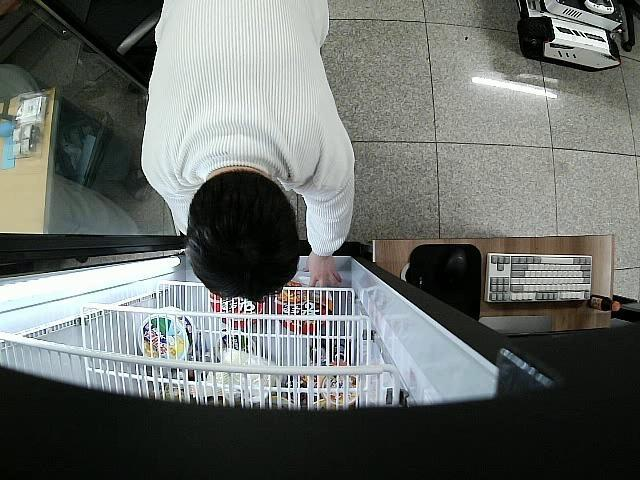10_wangTtukkeong: (275, 278, 334, 332)
